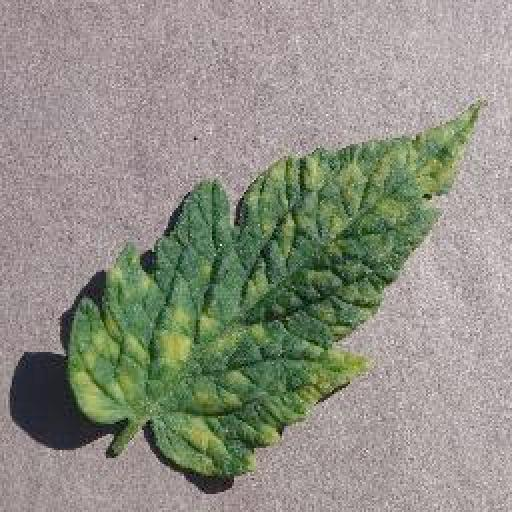disease_tomato: (74, 102, 488, 476)
